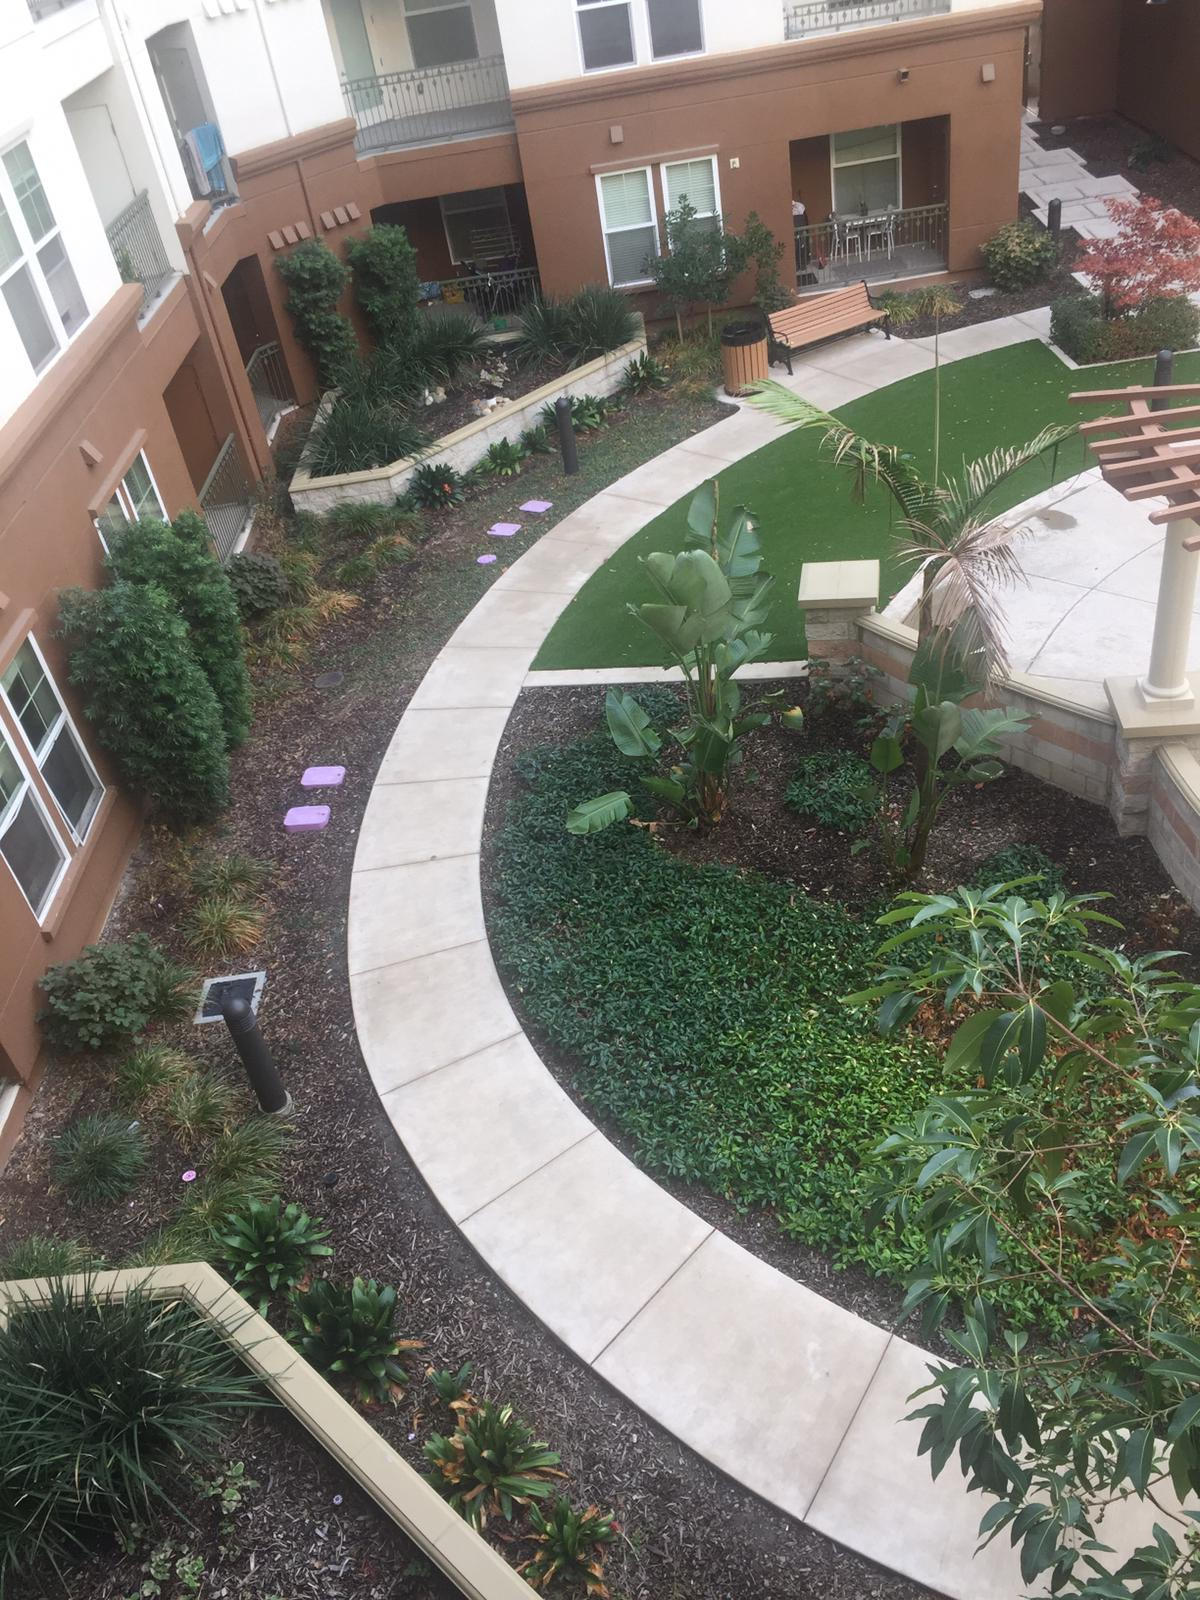plants: (887, 905, 1200, 1600), (764, 384, 1022, 915), (560, 797, 836, 1089), (15, 1305, 243, 1584), (643, 491, 778, 791), (95, 564, 257, 805), (279, 256, 458, 404), (40, 970, 182, 1049), (667, 202, 734, 353), (198, 1194, 303, 1270), (313, 1293, 417, 1368), (446, 1419, 550, 1494), (68, 1120, 171, 1196), (998, 239, 1058, 281)
